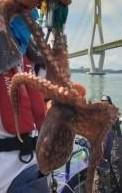Cephalopod: (10, 22, 119, 192)
